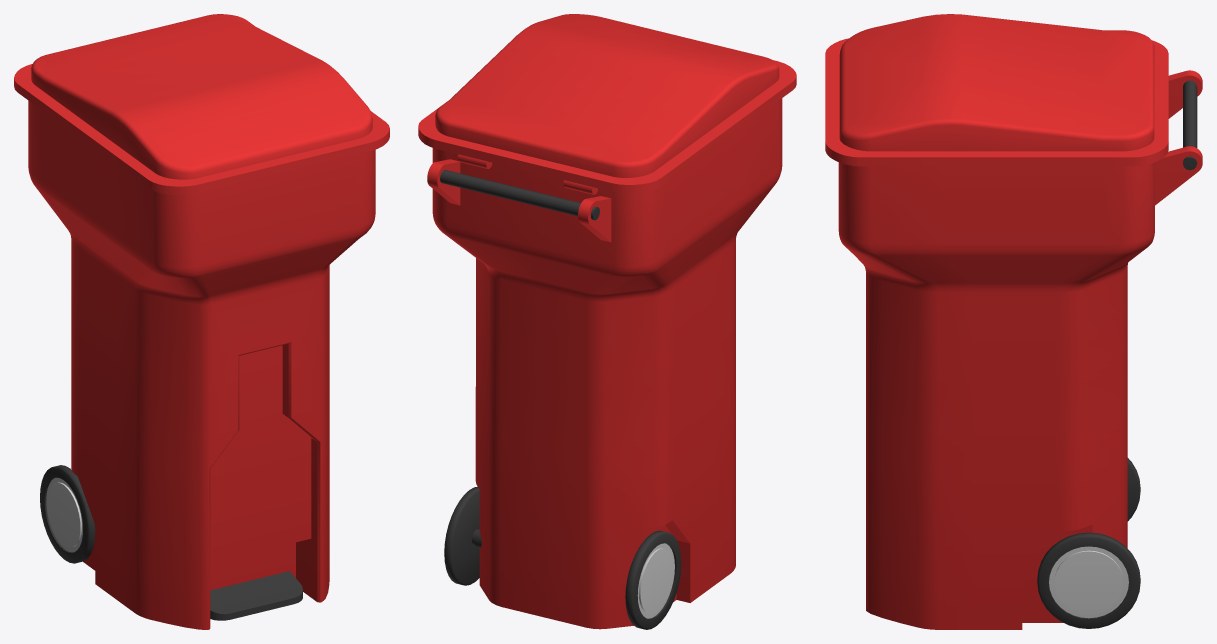
Rendered from garbage_collector_red_small.glb.
3 renders of one model, left to right at view 1: azimuth 30°, elevation 25°; view 2: azimuth 150°, elevation 25°; view 3: azimuth 270°, elevation 25°, orthographic. The views are drawn at different scales.
Parts seen in each view (by area): view 1: garbage_collector_red_small; view 2: garbage_collector_red_small; view 3: garbage_collector_red_small.
Part boxes in pixels (box(x1,y1,x2,y2)): garbage_collector_red_small: box(14, 14, 389, 629); garbage_collector_red_small: box(418, 14, 796, 629); garbage_collector_red_small: box(825, 14, 1202, 629).
Bounding box in the file's own units: 0.4701 × 0.9398 × 0.6237.
1 material, 1 textured.
